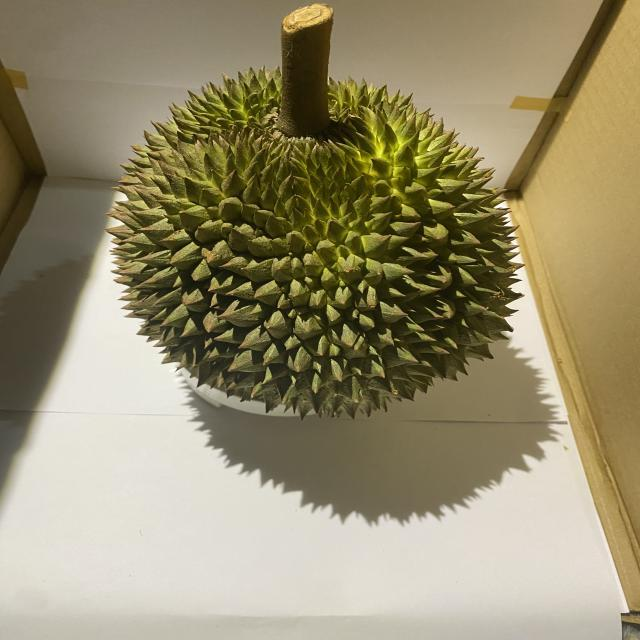immature: (108, 68, 528, 420)
